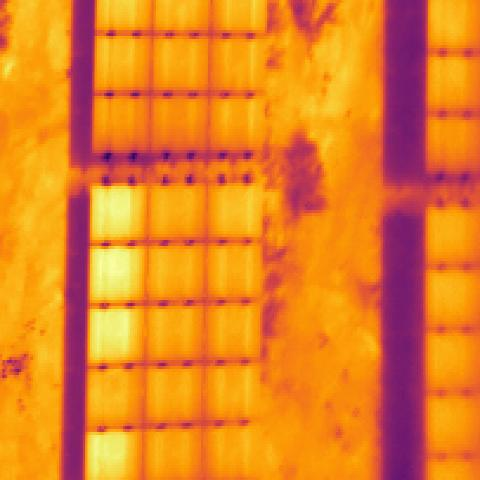fault: (90, 249, 137, 303), (90, 309, 135, 360), (92, 189, 135, 240), (90, 435, 130, 480)
